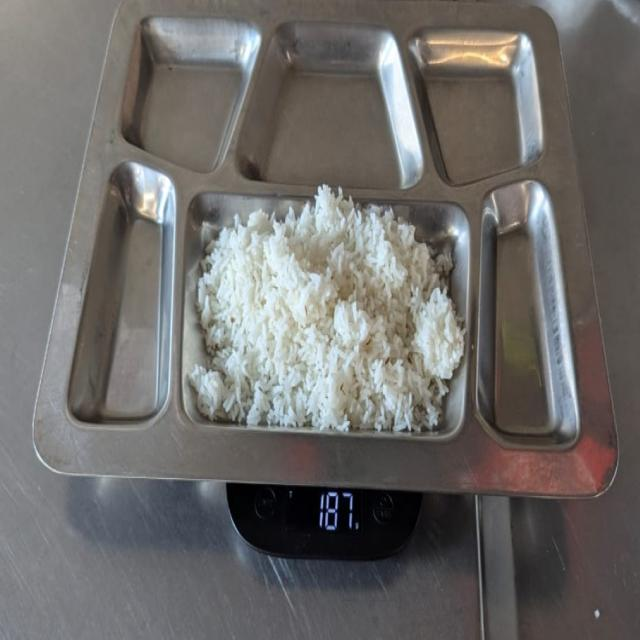White Rice: (187, 186, 468, 442)
